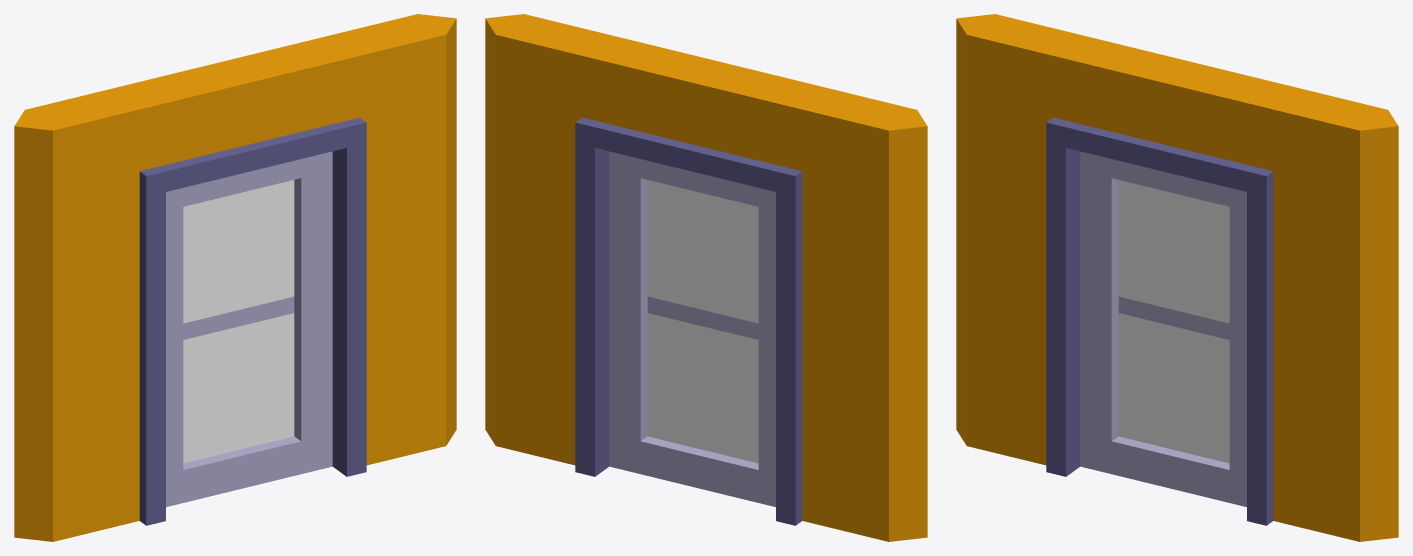
File: door1.fbx
3 renders of one model, left to right at view 1: azimuth 30°, elevation 25°; view 2: azimuth 150°, elevation 25°; view 3: azimuth 330°, elevation 25°, orthographic.
Parts seen in each view (by area): view 1: doorway_doorGlass; view 2: doorway_doorGlass; view 3: doorway_doorGlass.
Boxes of the visible parts, bbox=[...] form: doorway_doorGlass: bbox=[14, 14, 456, 541]; doorway_doorGlass: bbox=[485, 14, 927, 541]; doorway_doorGlass: bbox=[956, 14, 1398, 541].
Size of the model in its own units: 11.25 by 10 by 1.85.
